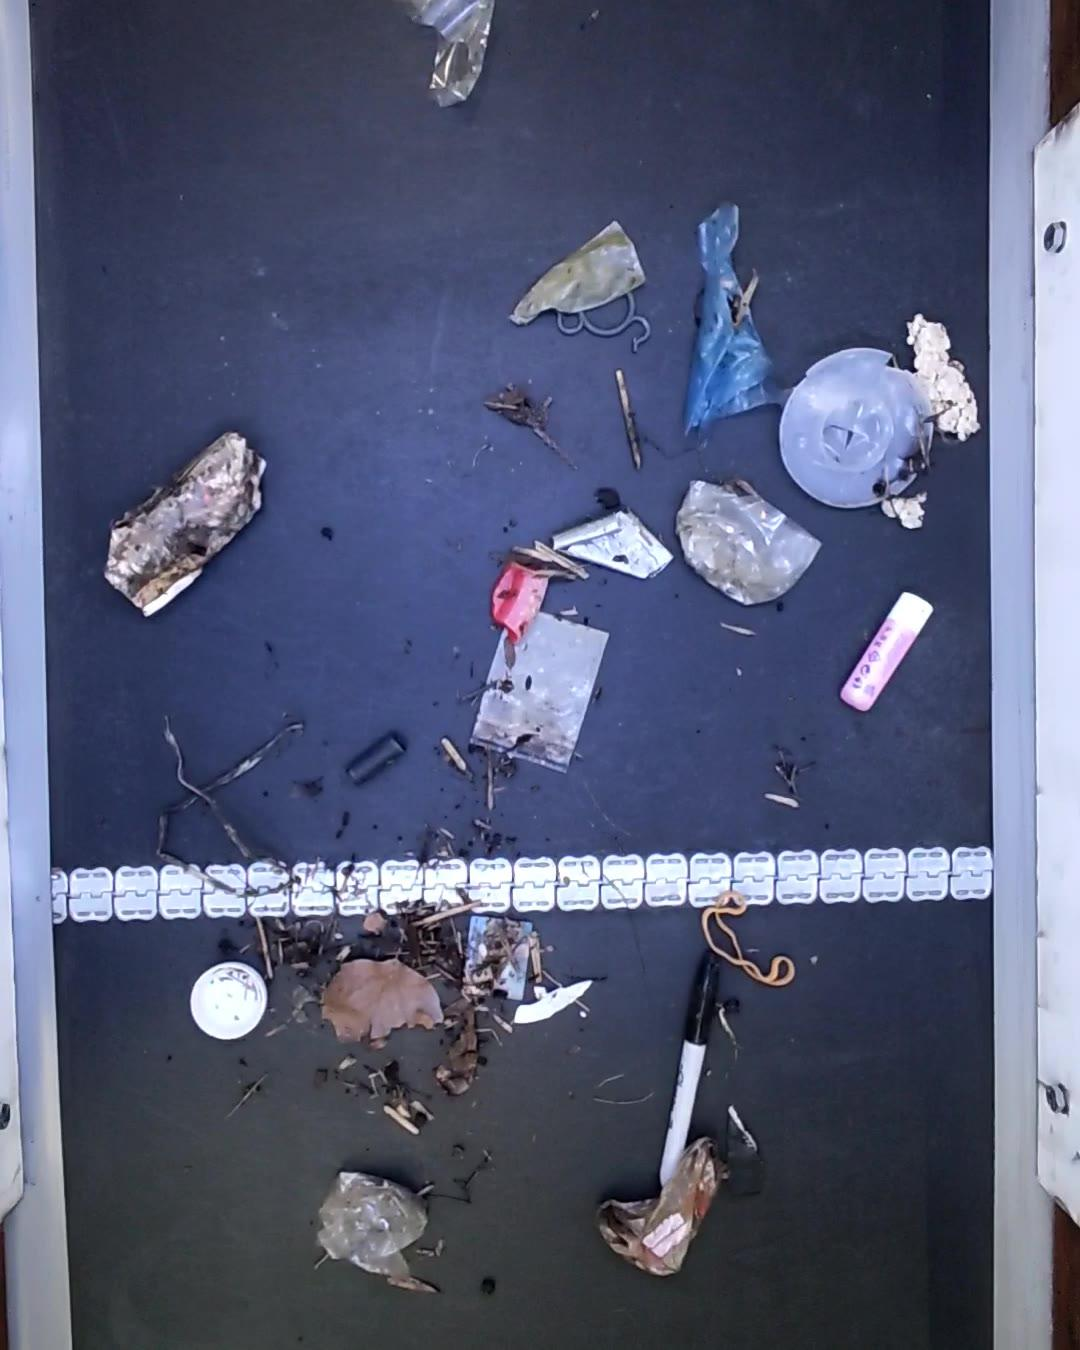Plastic folies of stukken daarvan 2.5- 50 cm: (684, 204, 784, 432), (674, 476, 824, 607), (603, 1142, 731, 1275), (507, 224, 649, 326), (318, 1169, 435, 1278), (408, 0, 503, 104)
